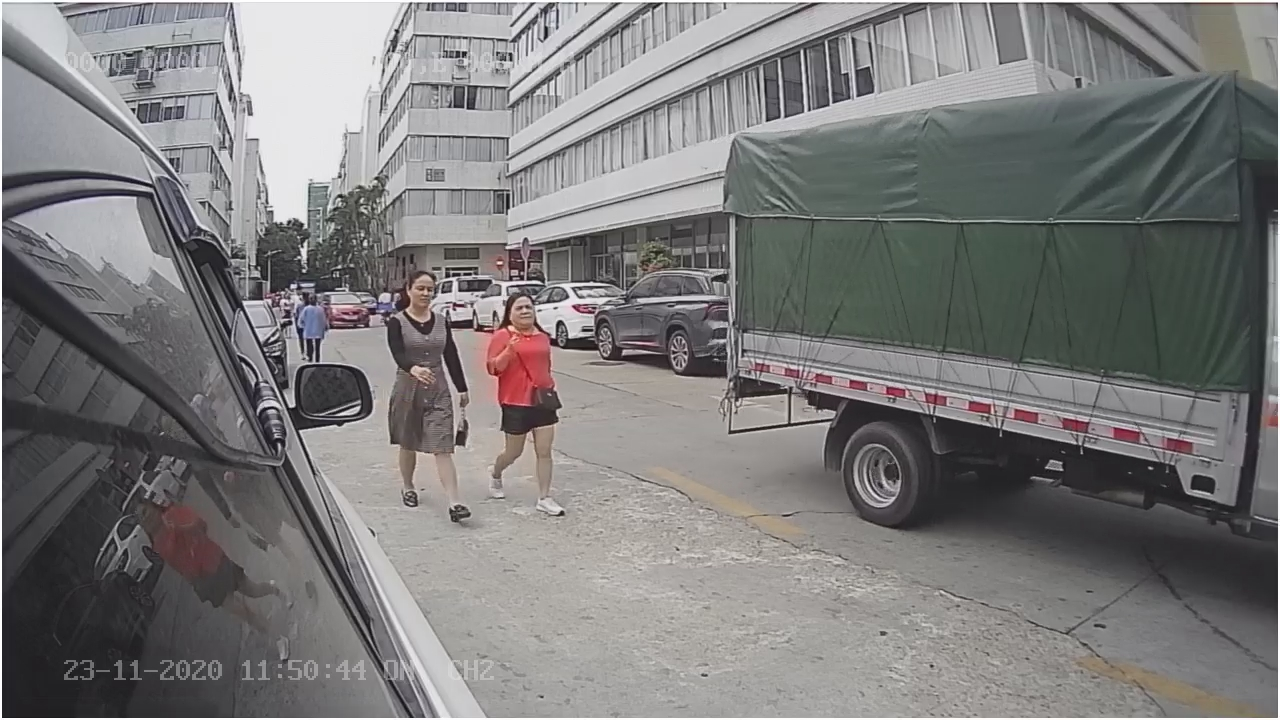person: (384, 273, 468, 519), (484, 285, 565, 517)
